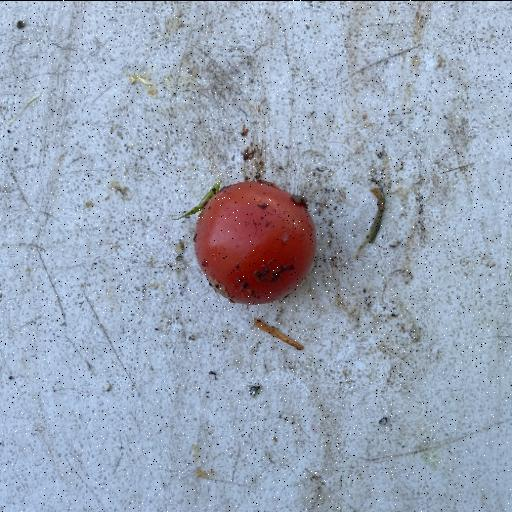Waste: (190, 179, 318, 307), (252, 316, 305, 352)
